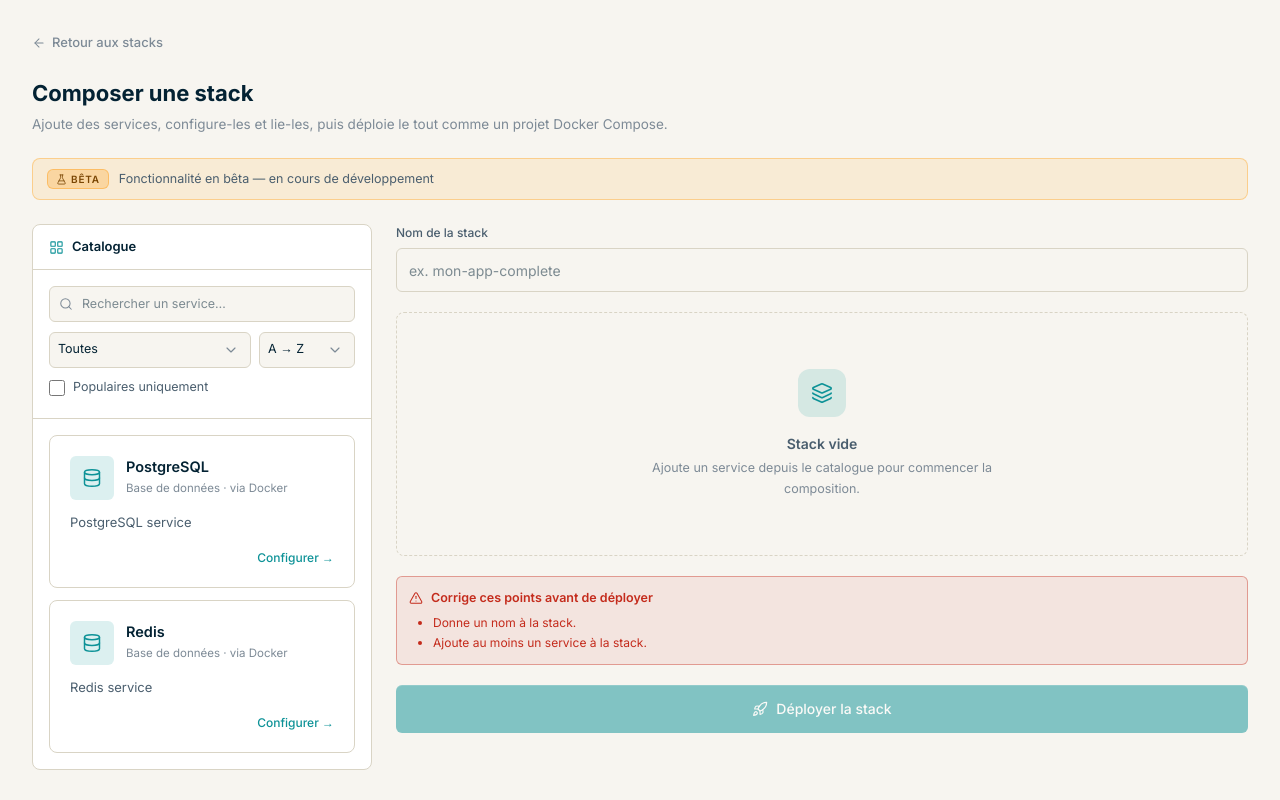
Scenario: StackBuilderPage › filtre les services proposés via la recherche
This screenshot has width=1280, height=800.
Expected: the text "PostgreSQL" is shown, x1=126 y1=456 x2=209 y2=478
Expected: the text "Redis" is shown, x1=126 y1=621 x2=165 y2=643
Type "redis" into the search field labelled "Rechercher un service" at (202, 304), box x1=49 y1=286 x2=355 y2=322
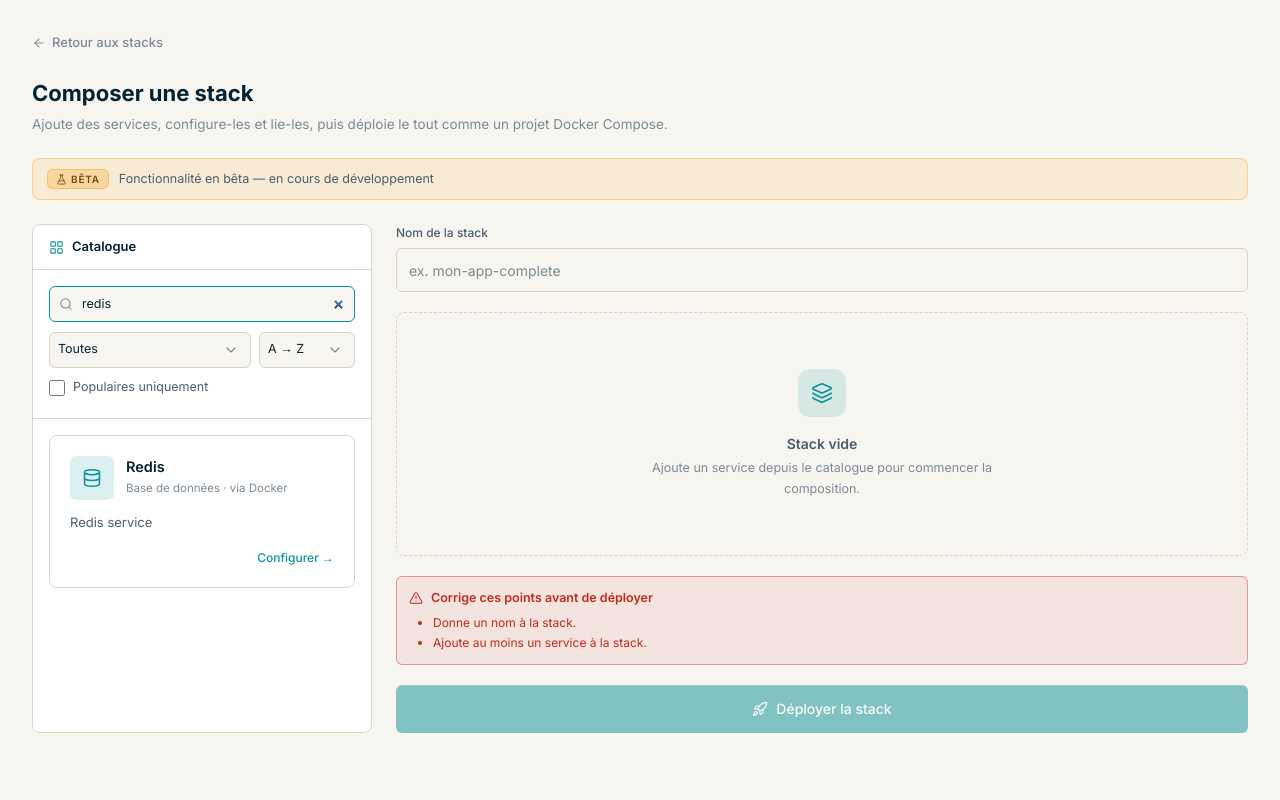
Expected: the text "Redis" is shown, x1=126 y1=456 x2=165 y2=478
Expected: the button "PostgreSQL" is gone
